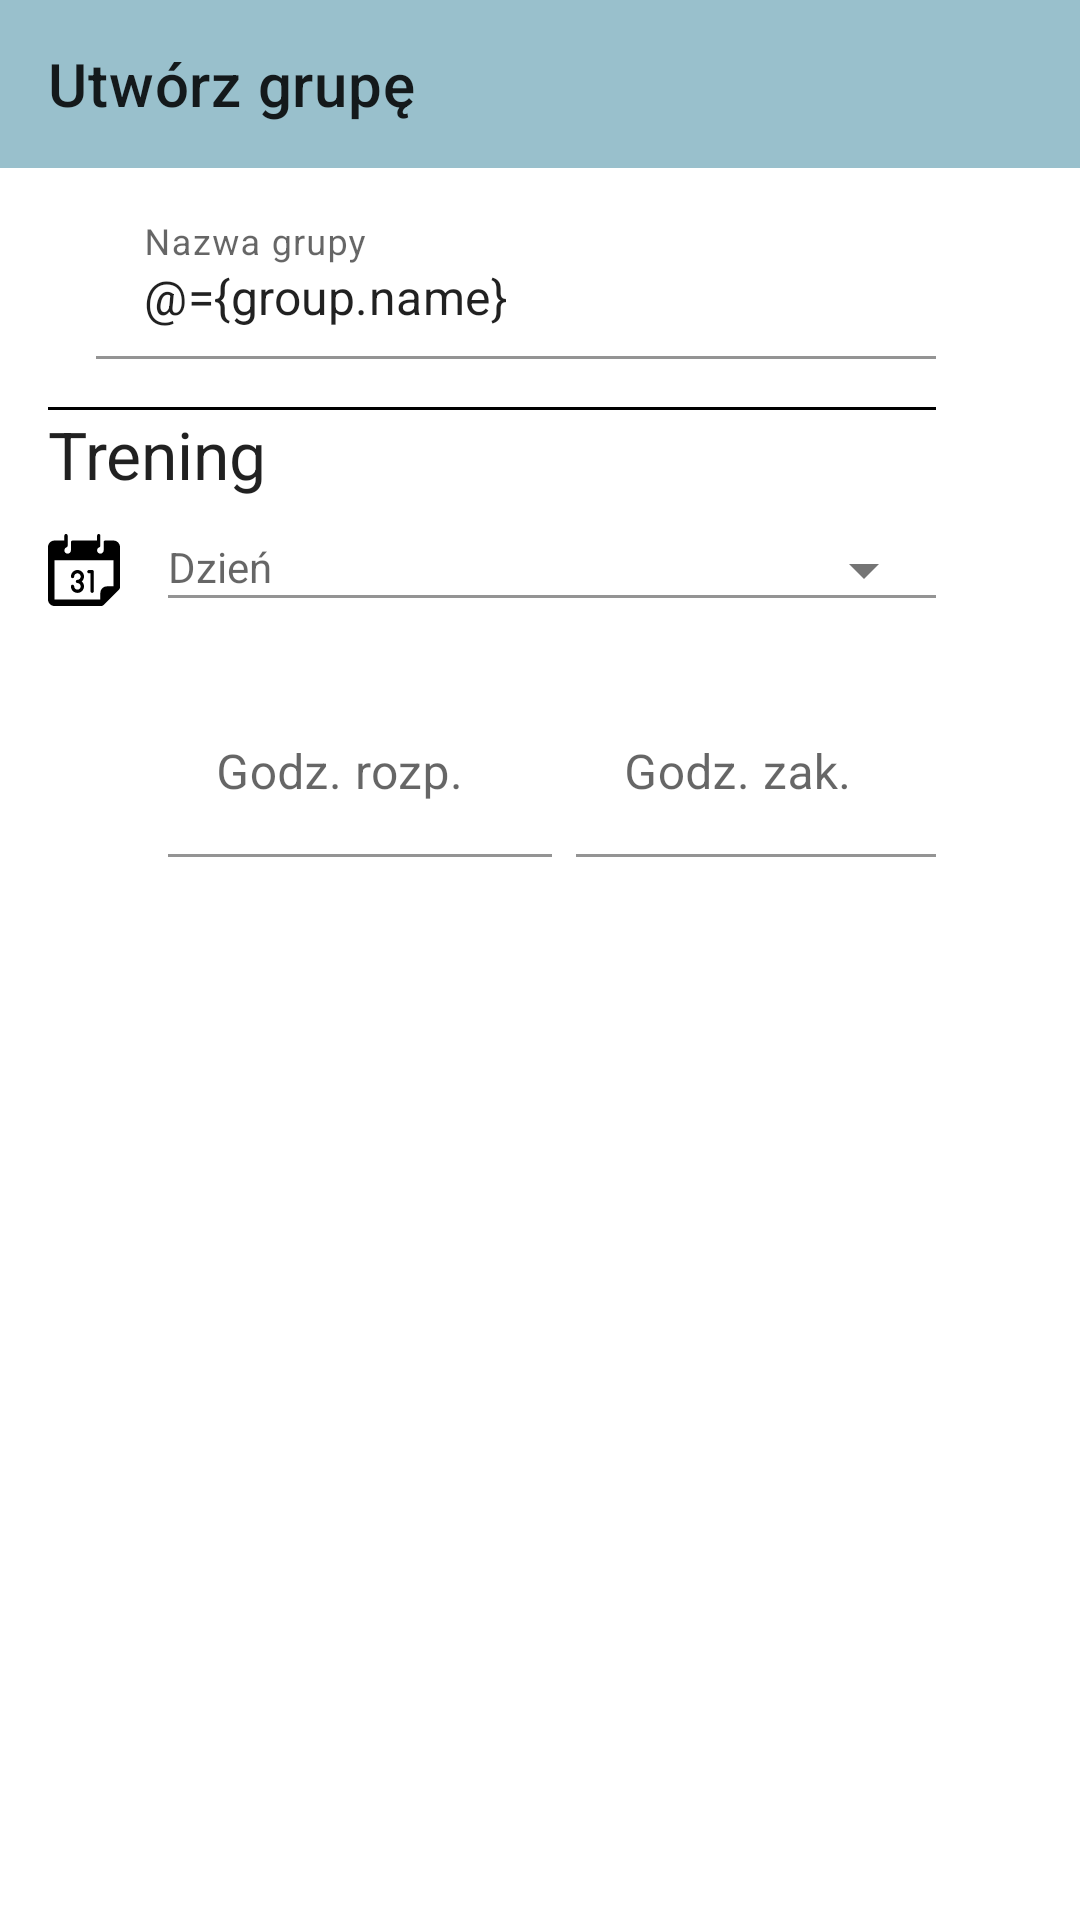

Screen size 1080×1920. Icon name, then its center in pixels as point (x, y):
calendar: point (84, 570)
